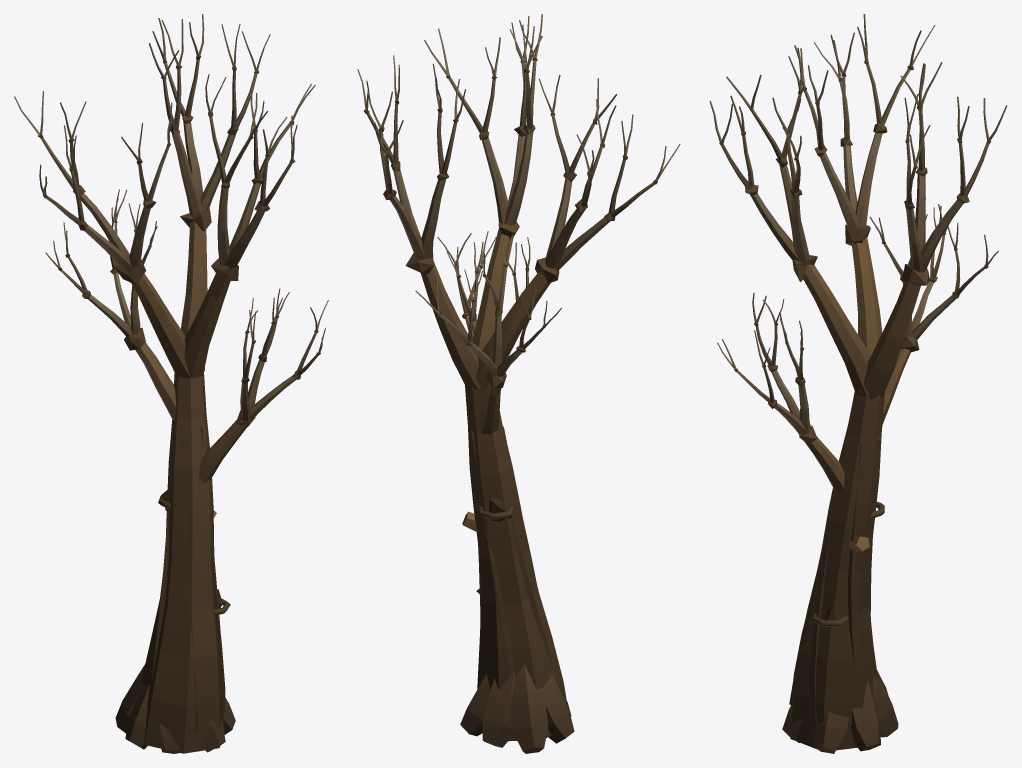
The model's file is bare_tree_01.glb.
3 renders of one model, left to right at view 1: azimuth 30°, elevation 25°; view 2: azimuth 150°, elevation 25°; view 3: azimuth 270°, elevation 25°, orthographic. The views are drawn at different scales.
Parts seen in each view (by area): view 1: bare_tree_01; view 2: bare_tree_01; view 3: bare_tree_01.
Boxes of the visible parts, x1,y1,x2,y2 form: bare_tree_01: (14, 14, 328, 753); bare_tree_01: (357, 14, 680, 753); bare_tree_01: (709, 14, 1007, 753).
Size of the model in its own units: 2.49 by 5.95 by 2.31.
